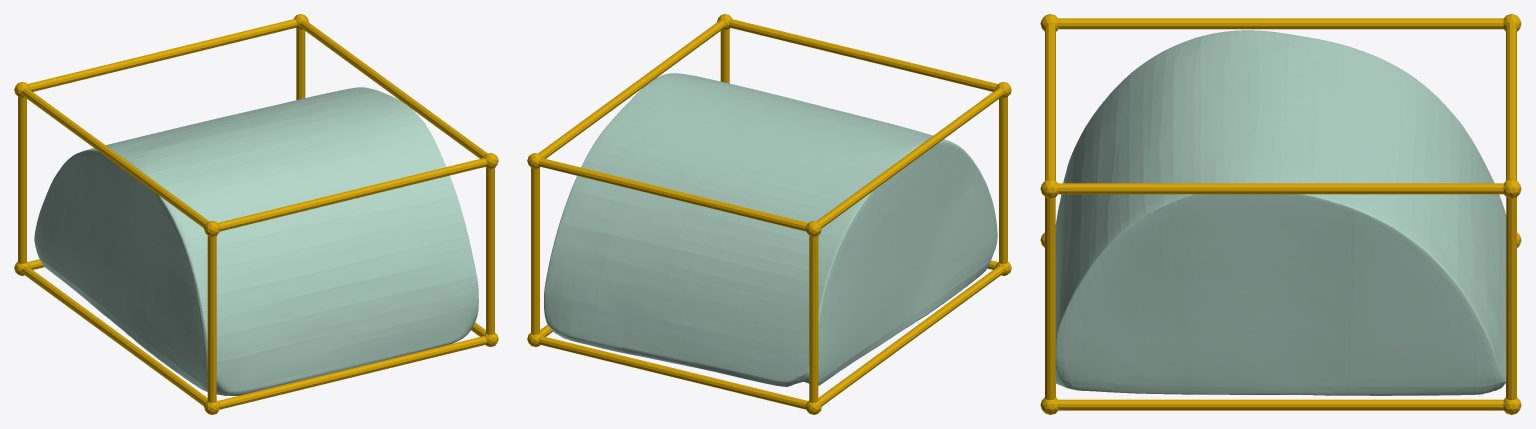
The model's file is sam3d_with_obb_viewer.glb.
The picture shows the model from 3 angles, left to right: view 1: azimuth 30°, elevation 25°; view 2: azimuth 150°, elevation 25°; view 3: azimuth 270°, elevation 25°; orthographic projection. The views are drawn at different scales.
Parts seen in each view (by area): view 1: world; view 2: world; view 3: world.
Boxes of the visible parts, left/top/right/bottom form: world: left=14, top=14, right=498, bottom=414; world: left=527, top=14, right=1011, bottom=414; world: left=1040, top=14, right=1521, bottom=414.
Size of the model in its own units: 0.0295 by 0.0186 by 0.0346.
